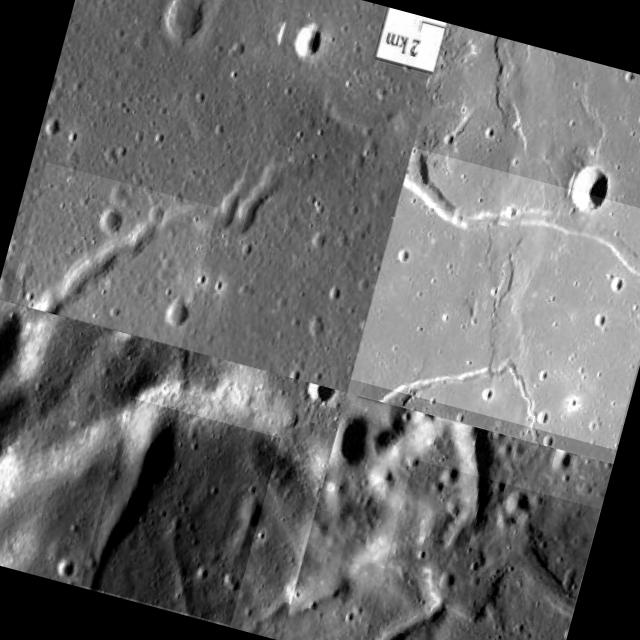rille: (350, 147, 640, 450), (80, 398, 280, 626), (359, 459, 599, 640), (9, 162, 218, 346), (360, 322, 632, 462)
